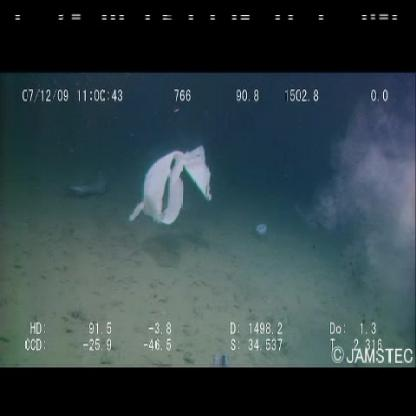Rác: (124, 142, 219, 234)
